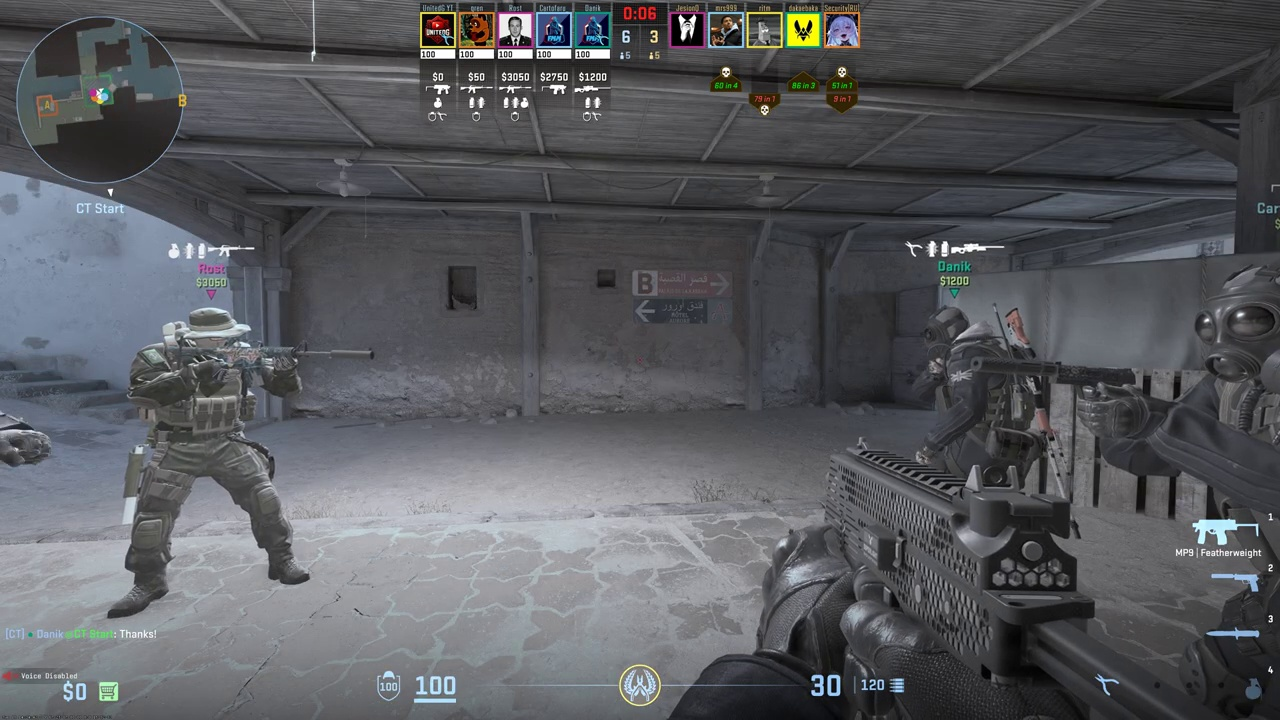CT: (112, 307, 313, 604), (1160, 268, 1280, 720), (909, 307, 1041, 490)
